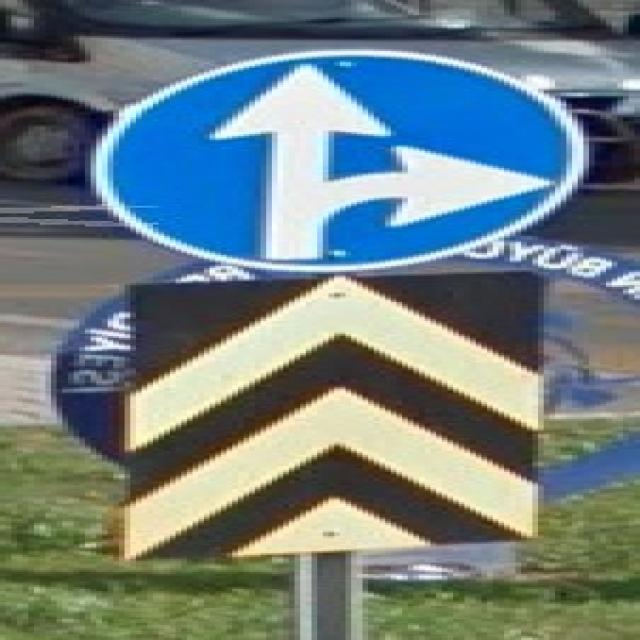Straight or Right: (97, 50, 573, 269)
